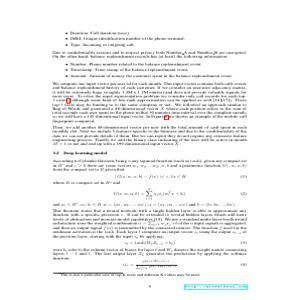text: (51, 29, 251, 282)
